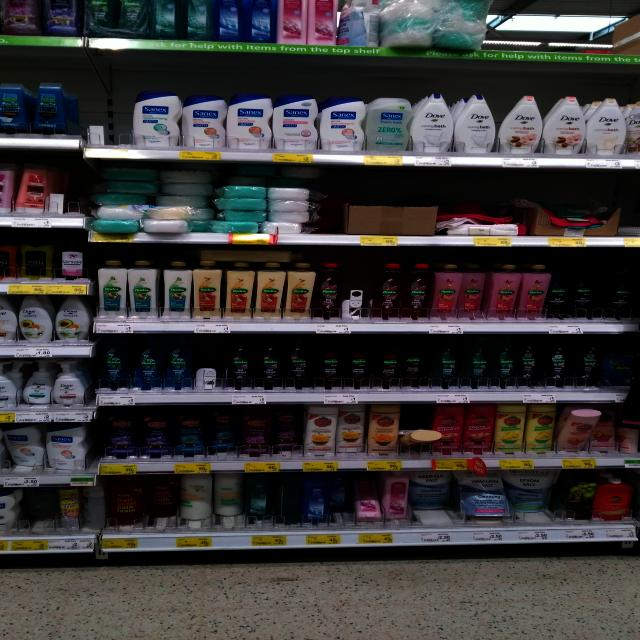empty_space: (493, 0, 627, 57)
